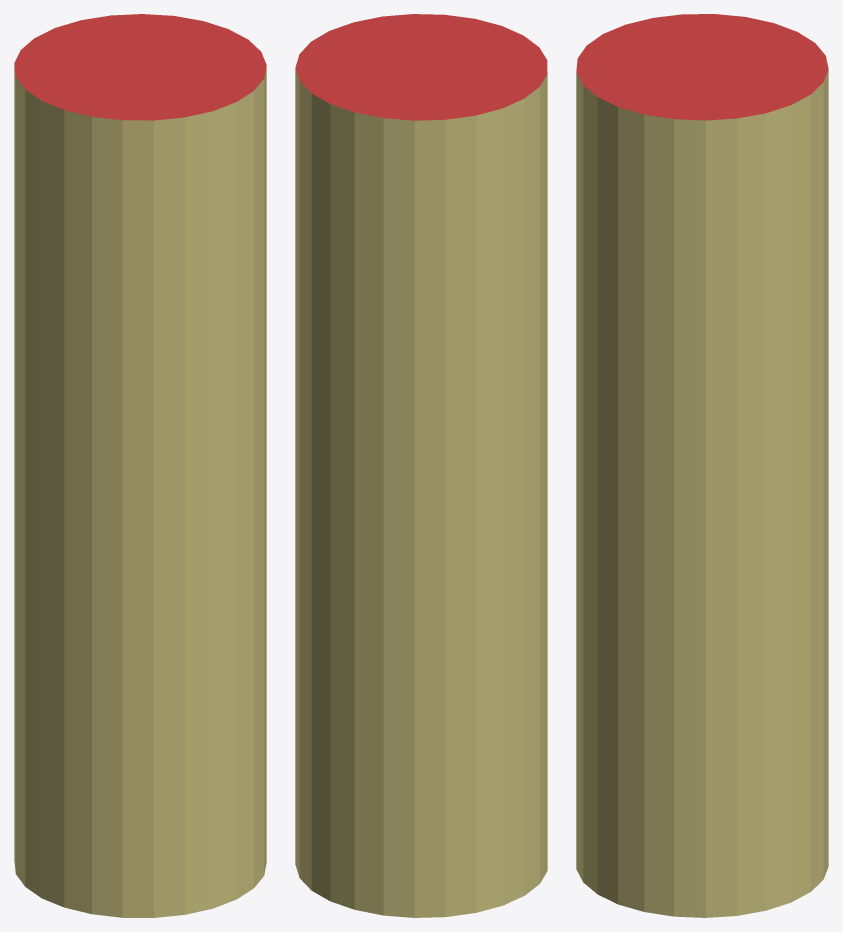
3 renders of one model, left to right at view 1: azimuth 30°, elevation 25°; view 2: azimuth 150°, elevation 25°; view 3: azimuth 270°, elevation 25°, orthographic.
Size of the model in its own units: 2.72 by 2.73 by 9.51.
